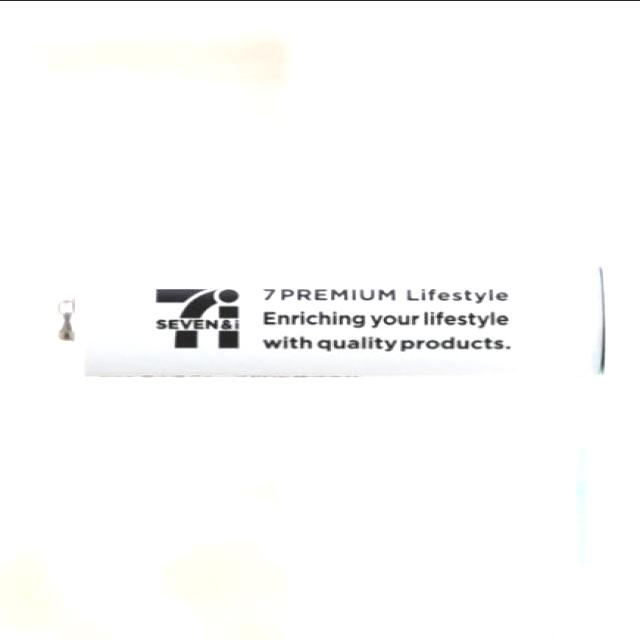AAA: (54, 254, 606, 385)
